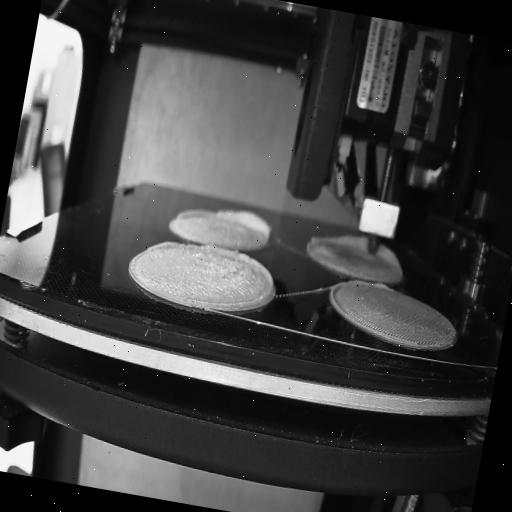over_extrusion: (198, 244, 278, 320), (215, 204, 274, 238), (307, 227, 367, 256), (372, 243, 406, 279), (176, 201, 216, 225), (146, 236, 180, 258), (367, 282, 391, 294)
